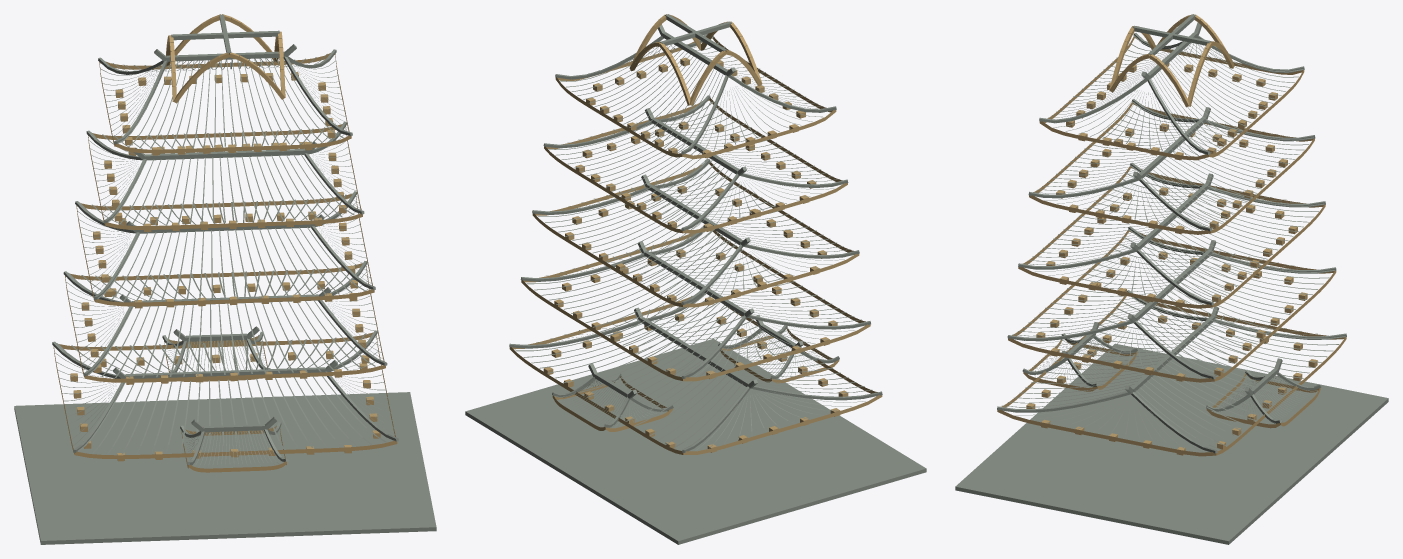
File: landmark-changyou.glb
3 renders of one model, left to right at view 1: azimuth 30°, elevation 25°; view 2: azimuth 150°, elevation 25°; view 3: azimuth 270°, elevation 25°, orthographic. The views are drawn at different scales.
Parts seen in each view (by area): view 1: Landmark_changyou; view 2: Landmark_changyou; view 3: Landmark_changyou.
Boxes of the visible parts, <box> form: Landmark_changyou: <box>14,14,436,544</box>; Landmark_changyou: <box>465,14,926,544</box>; Landmark_changyou: <box>955,14,1388,544</box>.
Bounding box in the file's own units: 0.6834 × 0.664 × 0.6333.
